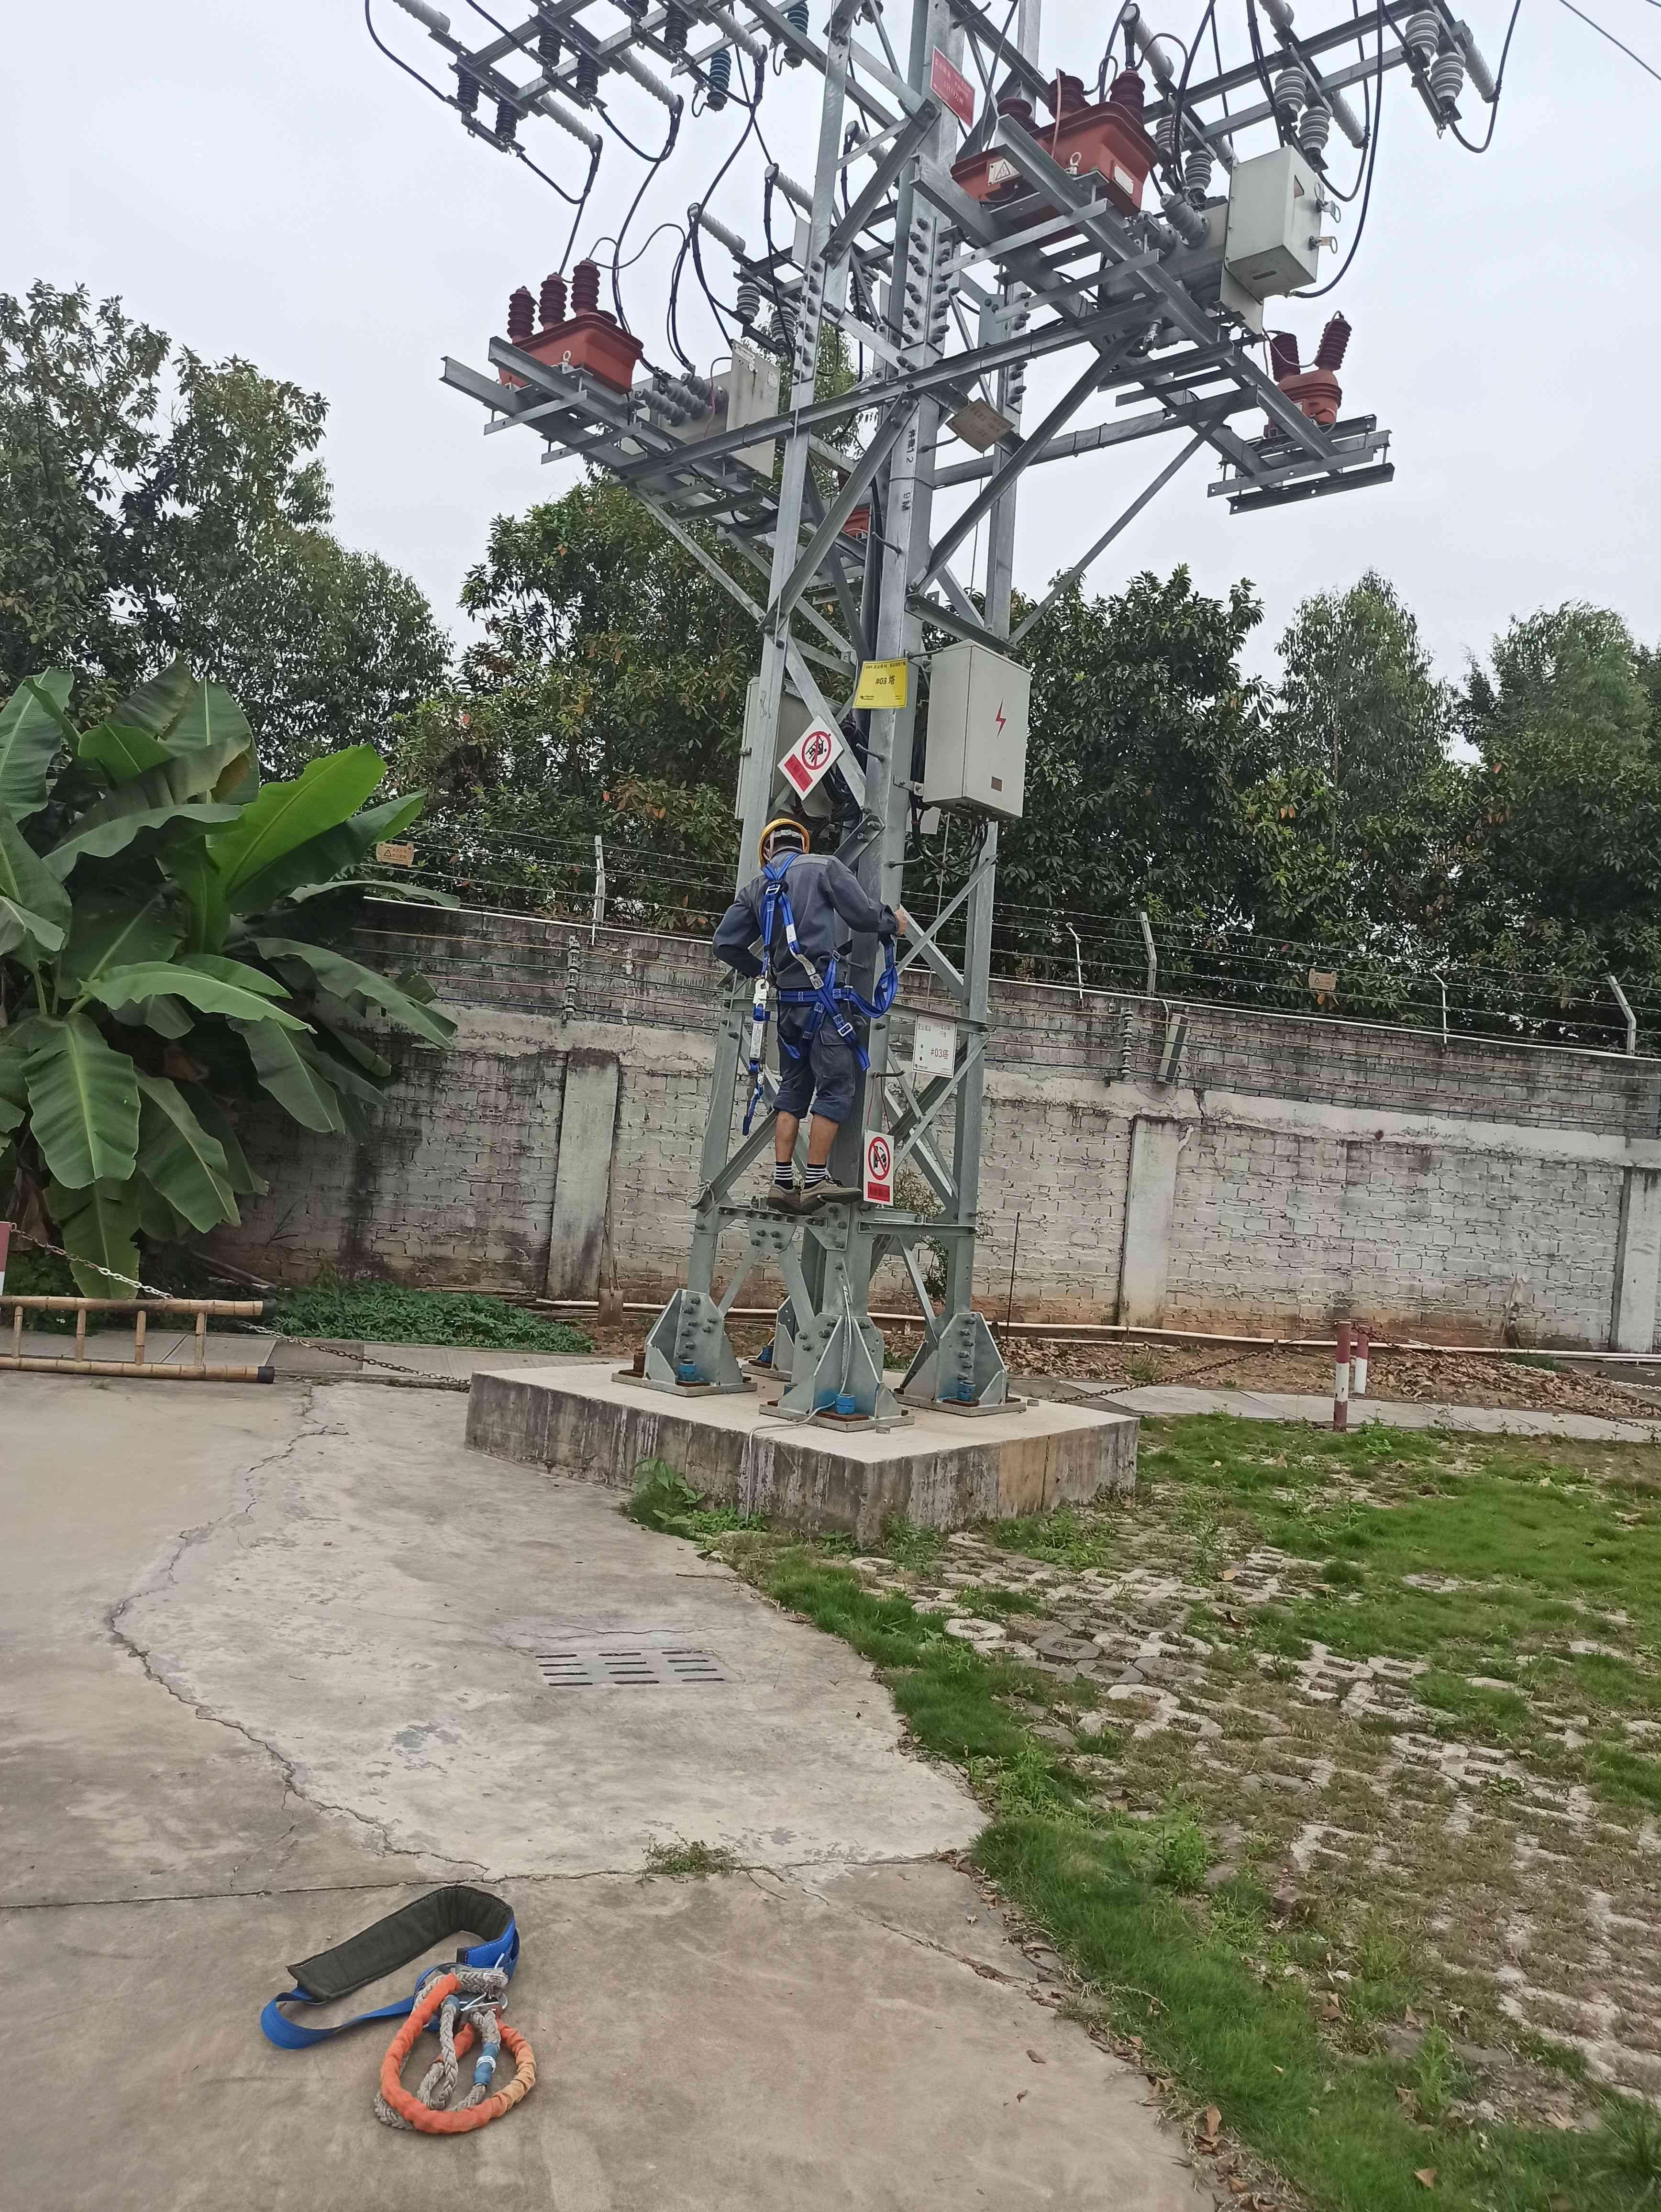downsuit: (755, 1001, 872, 1127)
upsuit: (721, 853, 902, 1010)
wrongbottom: (801, 1087, 851, 1172), (761, 1089, 811, 1172)
